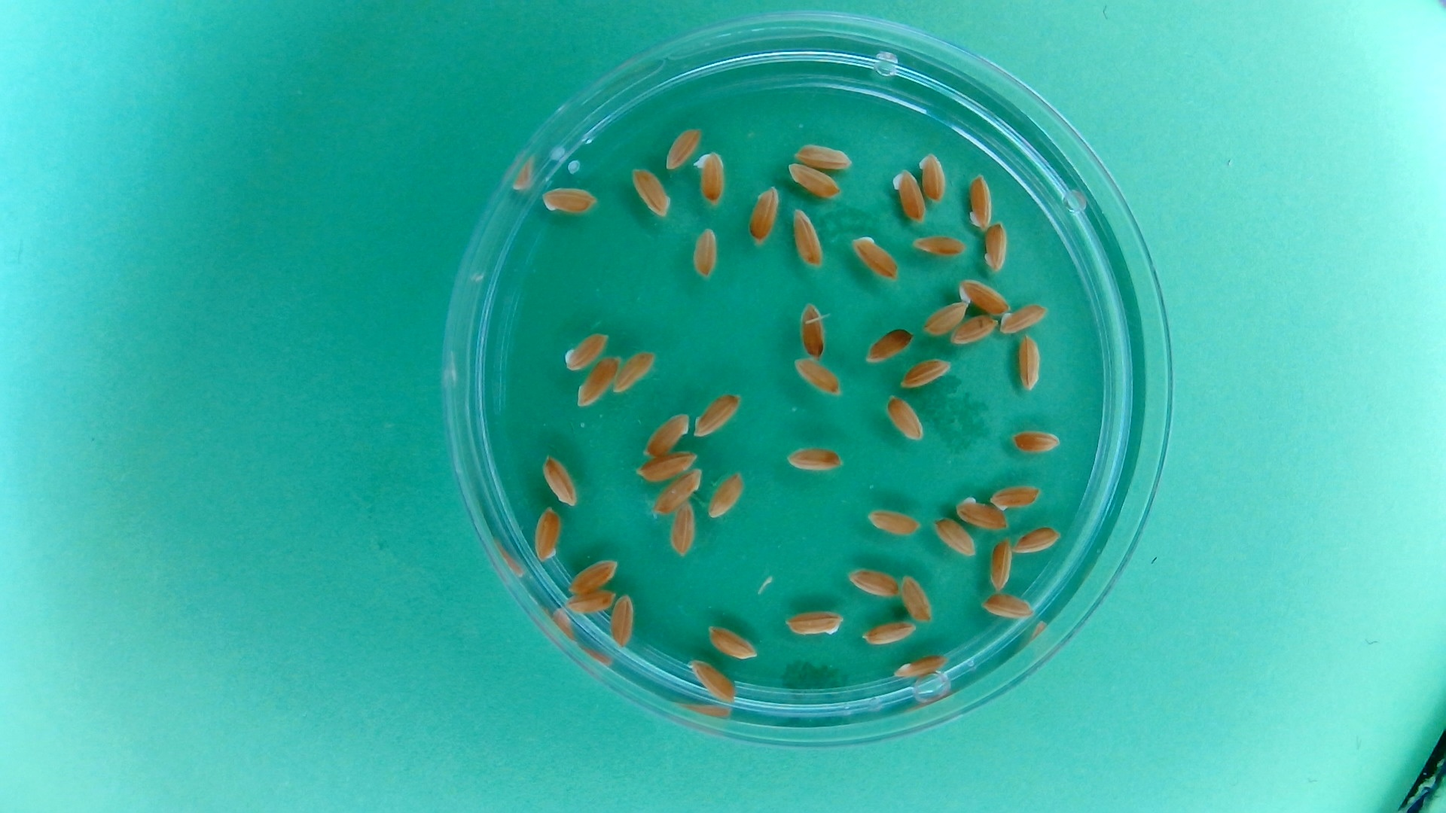no: (650, 465, 705, 518), (849, 232, 902, 284), (575, 352, 621, 410), (692, 389, 744, 440), (685, 655, 738, 704), (629, 163, 674, 220), (639, 410, 692, 458), (784, 160, 844, 201), (889, 166, 929, 227), (955, 276, 1013, 318), (745, 183, 782, 248), (612, 346, 658, 397), (953, 492, 1010, 533), (540, 452, 581, 509), (791, 355, 844, 399), (790, 206, 827, 269), (690, 147, 728, 208), (537, 182, 601, 218), (561, 329, 612, 374), (635, 448, 700, 483), (883, 392, 927, 443), (706, 467, 747, 521), (863, 325, 915, 367), (565, 556, 621, 595), (789, 139, 855, 172), (930, 514, 978, 559), (706, 623, 760, 662), (661, 123, 704, 171), (784, 443, 846, 476), (530, 504, 564, 564), (844, 565, 900, 601), (782, 608, 847, 639), (688, 222, 721, 282), (978, 589, 1038, 622), (898, 571, 936, 623), (898, 355, 954, 390), (798, 300, 830, 361), (920, 299, 970, 338), (667, 500, 700, 559), (865, 506, 923, 539), (917, 149, 950, 206), (949, 312, 1001, 348), (859, 618, 920, 648), (1015, 332, 1045, 391), (966, 170, 995, 231), (999, 302, 1051, 336), (988, 483, 1045, 513), (909, 232, 970, 260), (609, 592, 638, 650), (1011, 524, 1063, 556), (982, 218, 1011, 275), (563, 587, 617, 616), (987, 535, 1013, 592), (1009, 428, 1063, 455), (890, 659, 947, 680)
